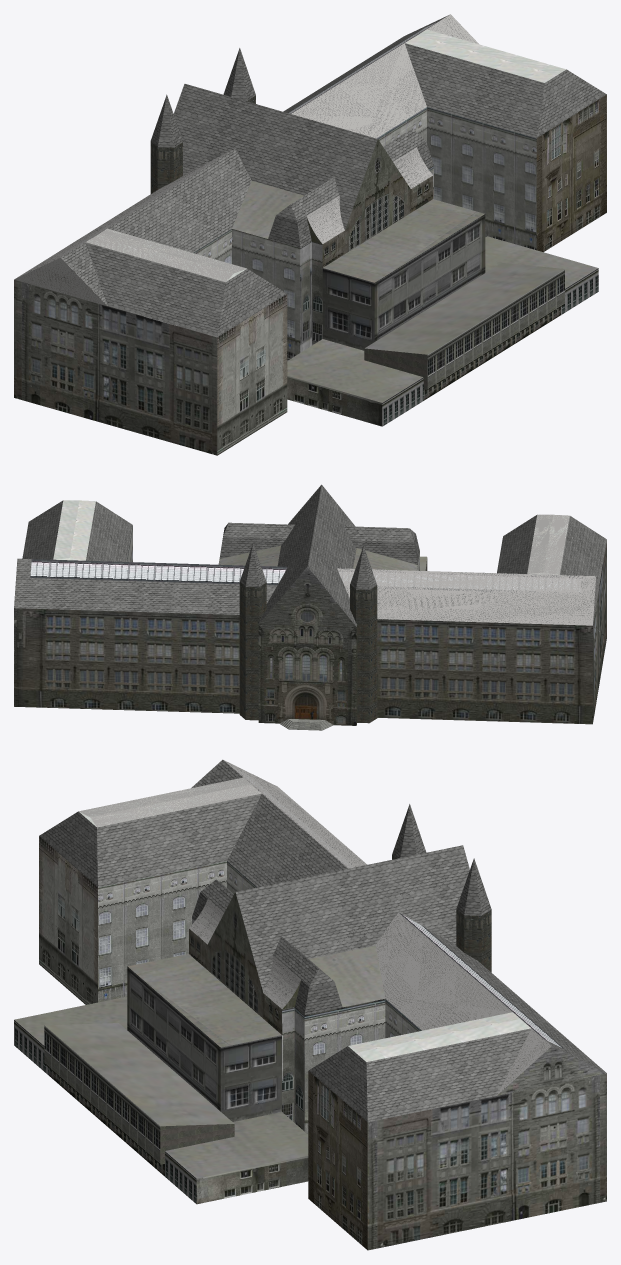
Rendered from Grp 7 Hovedbygg Gloshaugen.obj.
3 renders of one model, top to bottom at view 1: azimuth 30°, elevation 25°; view 2: azimuth 150°, elevation 25°; view 3: azimuth 270°, elevation 25°, orthographic. The views are drawn at different scales.
Parts seen in each view (by area): view 1: instance_6.003_ID443, instance_6.004_ID451, instance_6.007_ID480, instance_3.005_ID255, instance_6.001_ID422, instance_6.012_ID530, instance_6.014_ID549, instance_0.002_ID30, instance_2_ID129, instance_0_ID4, instance_3.004_ID242, instance_2.005_ID179 (+20 smaller); view 2: instance_6.002_ID430, instance_6.008_ID488, instance_6.007_ID480, instance_6.004_ID451, instance_3_ID202, instance_3.005_ID255, instance_6.010_ID509, instance_6.011_ID522, instance_3.003_ID229, instance_4.001_ID385, instance_5.001_ID385, instance_6.021_ID609 (+11 smaller); view 3: instance_6_ID409, instance_6.007_ID480, instance_6.004_ID451, instance_3.005_ID255, instance_6.005_ID459, instance_2_ID129, instance_6.014_ID549, instance_6.012_ID530, instance_0_ID4, instance_0.002_ID30, instance_1.004_ID95, instance_0.001_ID17 (+23 smaller).
Boxes of the visible parts, x1=… form: instance_6.003_ID443: x1=14, y1=279, x2=217, y2=455; instance_6.004_ID451: x1=15, y1=149, x2=286, y2=337; instance_6.007_ID480: x1=283, y1=14, x2=606, y2=138; instance_3.005_ID255: x1=173, y1=84, x2=377, y2=229; instance_6.001_ID422: x1=377, y1=107, x2=536, y2=250; instance_6.012_ID530: x1=217, y1=294, x2=287, y2=455; instance_6.014_ID549: x1=536, y1=94, x2=606, y2=252; instance_0.002_ID30: x1=374, y1=214, x2=485, y2=341; instance_2_ID129: x1=365, y1=263, x2=564, y2=354; instance_0_ID4: x1=323, y1=199, x2=484, y2=282; instance_3.004_ID242: x1=322, y1=139, x2=432, y2=267; instance_2.005_ID179: x1=427, y1=269, x2=564, y2=389; instance_6.002_ID430: x1=14, y1=608, x2=239, y2=713; instance_6.008_ID488: x1=377, y1=619, x2=592, y2=724; instance_6.007_ID480: x1=14, y1=500, x2=277, y2=614; instance_6.004_ID451: x1=345, y1=515, x2=606, y2=625; instance_3_ID202: x1=258, y1=624, x2=356, y2=725; instance_3.005_ID255: x1=259, y1=484, x2=356, y2=626; instance_6.010_ID509: x1=30, y1=559, x2=287, y2=585; instance_6.011_ID522: x1=337, y1=568, x2=581, y2=594; instance_3.003_ID229: x1=259, y1=567, x2=356, y2=627; instance_4.001_ID385: x1=350, y1=603, x2=377, y2=723; instance_5.001_ID385: x1=239, y1=600, x2=266, y2=720; instance_6.021_ID609: x1=527, y1=514, x2=569, y2=574; instance_6_ID409: x1=367, y1=1073, x2=606, y2=1250; instance_6.007_ID480: x1=308, y1=912, x2=605, y2=1122; instance_6.004_ID451: x1=39, y1=760, x2=367, y2=887; instance_3.005_ID255: x1=235, y1=845, x2=469, y2=992; instance_6.005_ID459: x1=98, y1=861, x2=256, y2=1002; instance_2_ID129: x1=45, y1=1023, x2=234, y2=1126; instance_6.014_ID549: x1=308, y1=1071, x2=367, y2=1249; instance_6.012_ID530: x1=39, y1=836, x2=97, y2=1004; instance_0_ID4: x1=128, y1=954, x2=281, y2=1047; instance_0.002_ID30: x1=127, y1=966, x2=220, y2=1111; instance_1.004_ID95: x1=165, y1=1112, x2=308, y2=1178; instance_0.001_ID17: x1=220, y1=1035, x2=281, y2=1121.
Bounding box in the file's own units: 112 × 35 × 83.84.
